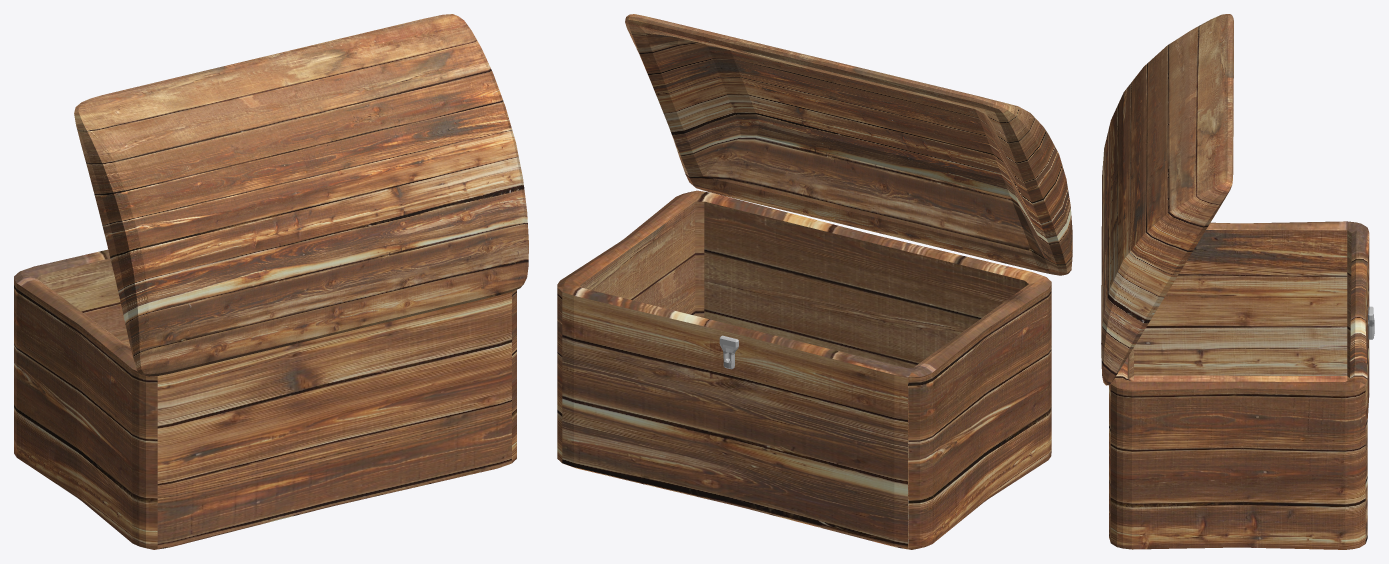
File: chest-open.obj
3 views of the same model, side by side, from view 1: azimuth 30°, elevation 25°; view 2: azimuth 150°, elevation 25°; view 3: azimuth 270°, elevation 25° (orthographic). The views are drawn at different scales.
Parts seen in each view (by area): view 1: door_Cube.001, chest1_Cube; view 2: chest1_Cube, door_Cube.001; view 3: chest1_Cube, door_Cube.001.
Part boxes in pixels (x1,y1,x2,y2): door_Cube.001: (74,14,528,376); chest1_Cube: (14,249,516,549); chest1_Cube: (557,190,1051,549); door_Cube.001: (625,14,1072,275); chest1_Cube: (1109,221,1369,549); door_Cube.001: (1101,14,1233,385).
Size of the model in its own units: 3.36 by 3.31 by 2.21.
